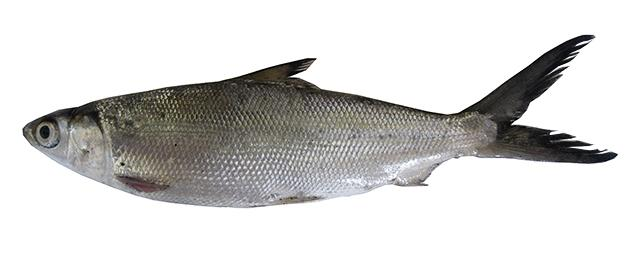Mulut: (11, 101, 52, 165)
Sirip Anal: (386, 154, 450, 198)
Sirip Dada: (108, 164, 174, 204)
Sirip Ekor: (447, 24, 631, 180)
Sirip Perut: (255, 185, 325, 215)
Sirip Punggung: (218, 44, 329, 101)
